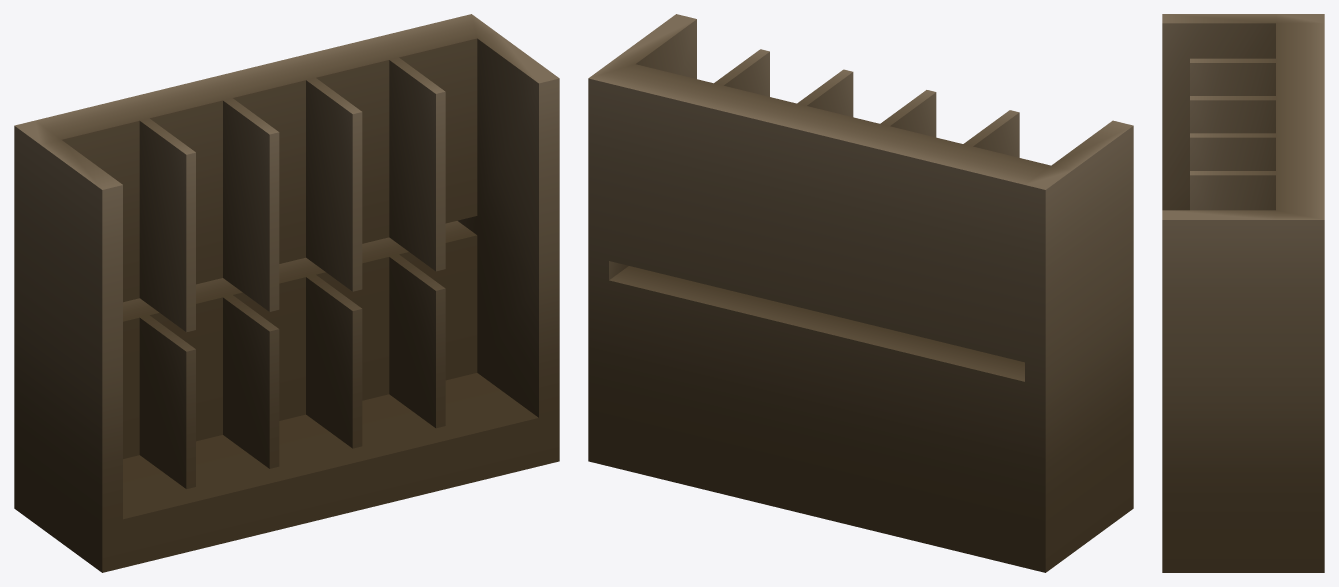
Rendered from ToolRack.fbx.
3 renders of one model, left to right at view 1: azimuth 30°, elevation 25°; view 2: azimuth 150°, elevation 25°; view 3: azimuth 270°, elevation 25°, orthographic. The views are drawn at different scales.
Visible parts, largest first — view 1: ToolRack; view 2: ToolRack; view 3: ToolRack.
Boxes of the visible parts, left/top/right/bottom form: ToolRack: left=14, top=14, right=559, bottom=572; ToolRack: left=588, top=14, right=1133, bottom=572; ToolRack: left=1162, top=14, right=1324, bottom=572.
Size of the model in its own units: 1.5 by 1.2 by 0.5.
Materials: 1 (1 with a texture image).
